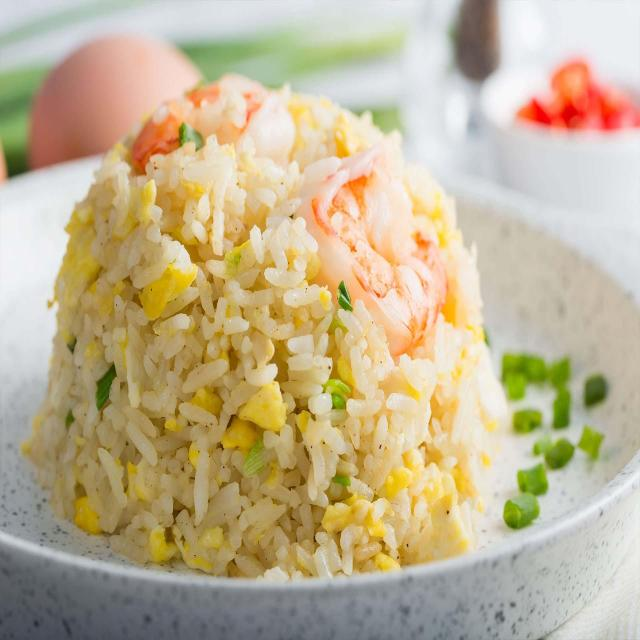Nasi Goreng: (22, 72, 506, 580)
